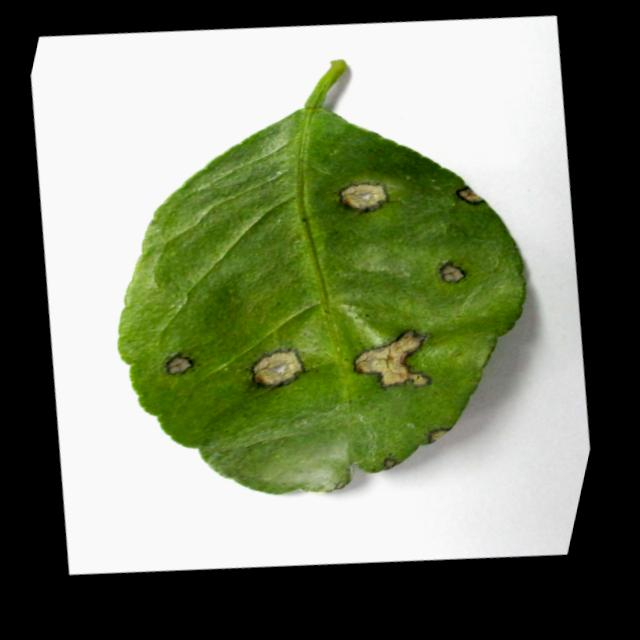antracnose: (117, 61, 523, 494), (354, 331, 429, 387), (252, 350, 302, 386), (339, 183, 387, 210), (438, 262, 464, 283), (165, 354, 191, 374), (456, 187, 483, 204), (427, 429, 448, 443), (381, 458, 398, 470)
